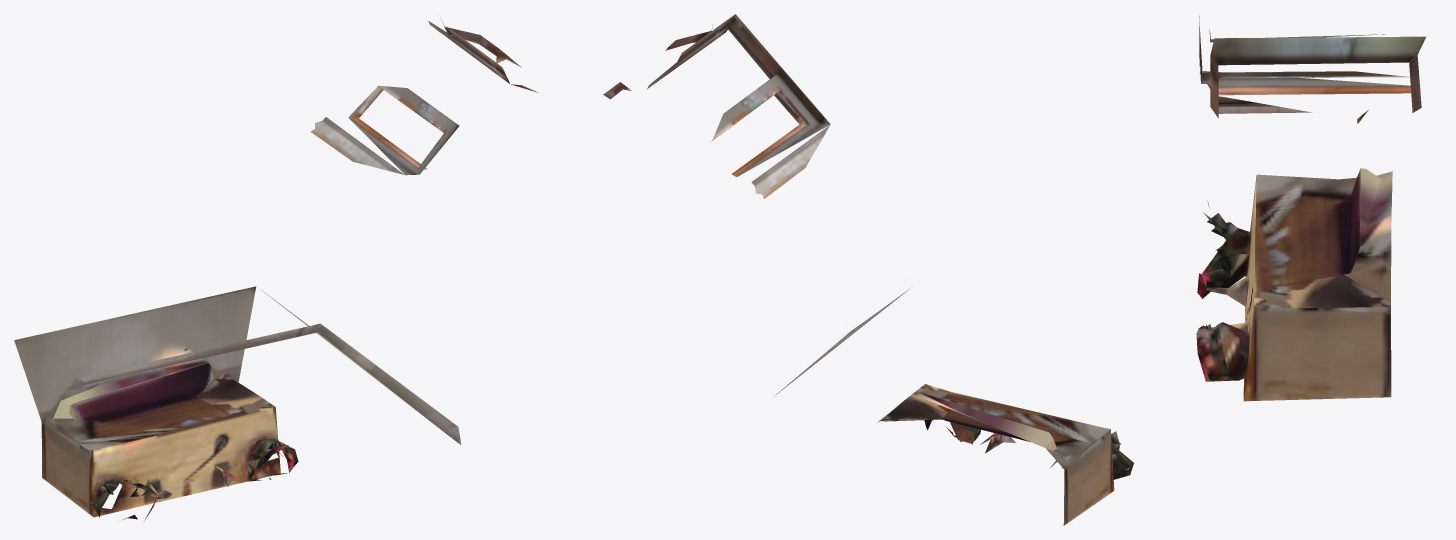
The model's file is communion-rail.glb.
3 renders of one model, left to right at view 1: azimuth 30°, elevation 25°; view 2: azimuth 150°, elevation 25°; view 3: azimuth 270°, elevation 25°, orthographic. The views are drawn at different scales.
Parts seen in each view (by area): view 1: Node; view 2: Node; view 3: Node.
Part boxes in pixels (<box>): Node: <box>14,17,538,520</box>; Node: <box>603,14,1133,525</box>; Node: <box>1196,15,1425,401</box>.
Bounding box in the file's own units: 5.61 × 3.97 × 1.64.
Materials: 6 (6 with a texture image).
